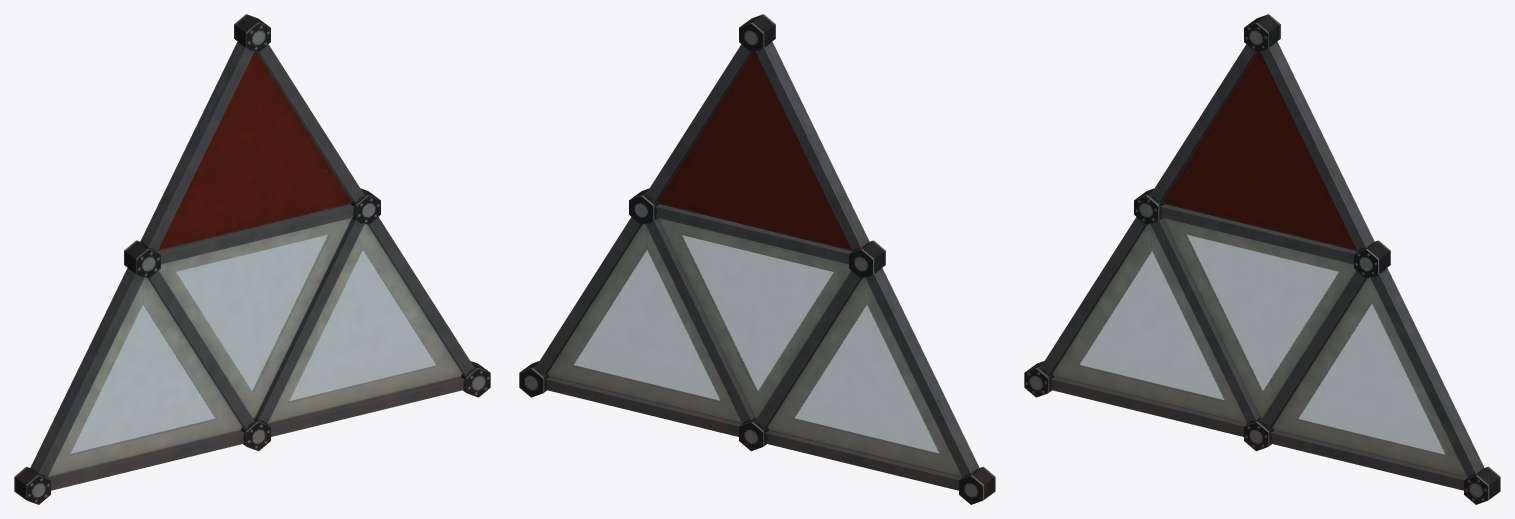
Rendered from dome_frame.glb.
3 renders of one model, left to right at view 1: azimuth 30°, elevation 25°; view 2: azimuth 150°, elevation 25°; view 3: azimuth 330°, elevation 25°, orthographic.
Parts seen in each view (by area): view 1: dome_frame; view 2: dome_frame; view 3: dome_frame.
Boxes of the visible parts, bbox=[...] form: dome_frame: bbox=[14, 14, 490, 504]; dome_frame: bbox=[519, 14, 995, 504]; dome_frame: bbox=[1024, 14, 1500, 504].
Bounding box in the file's own units: 6.33 × 5.58 × 0.3.
Materials: 1 (1 with a texture image).
